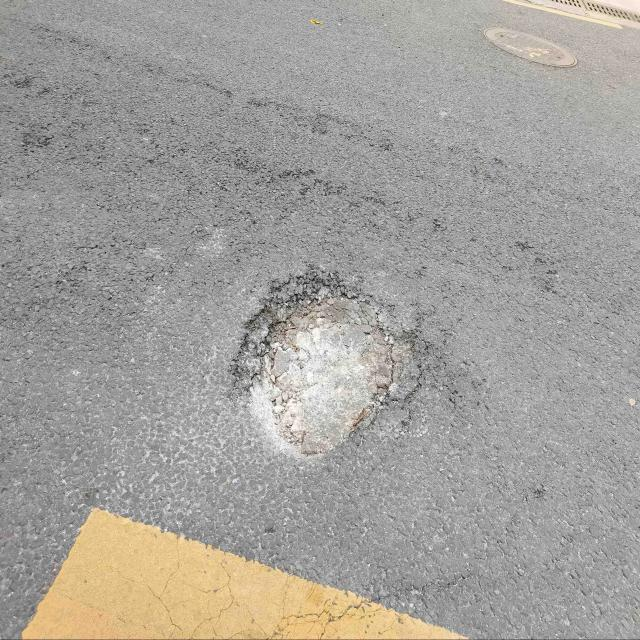Pothole: (237, 268, 410, 470)
